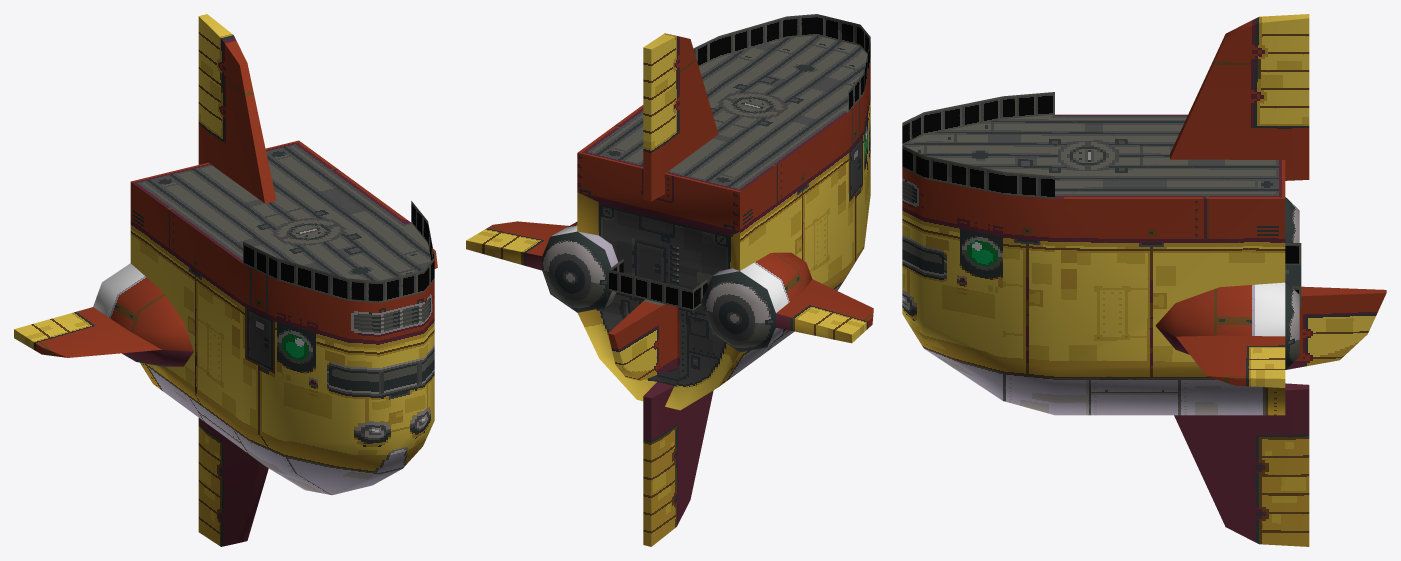
3 renders of one model, left to right at view 1: azimuth 30°, elevation 25°; view 2: azimuth 150°, elevation 25°; view 3: azimuth 270°, elevation 25°, orthographic. The views are drawn at different scales.
Visible parts, largest first — view 1: nodes_0__058Baked; view 2: nodes_0__058Baked; view 3: nodes_0__058Baked.
Boxes of the visible parts, x1,y1,x2,y2 form: nodes_0__058Baked: [14, 14, 437, 546]; nodes_0__058Baked: [466, 14, 873, 546]; nodes_0__058Baked: [902, 14, 1386, 546].
Size of the model in its own units: 125 by 154 by 127.
Materials: 1 (1 with a texture image).
